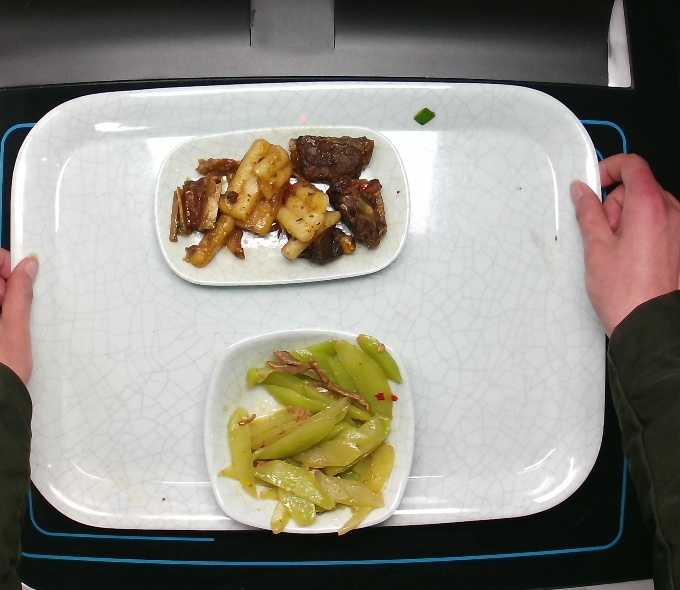wcq-NianGaoZaiPai: (161, 131, 403, 273)
wcq-WoSun: (214, 334, 409, 535)
